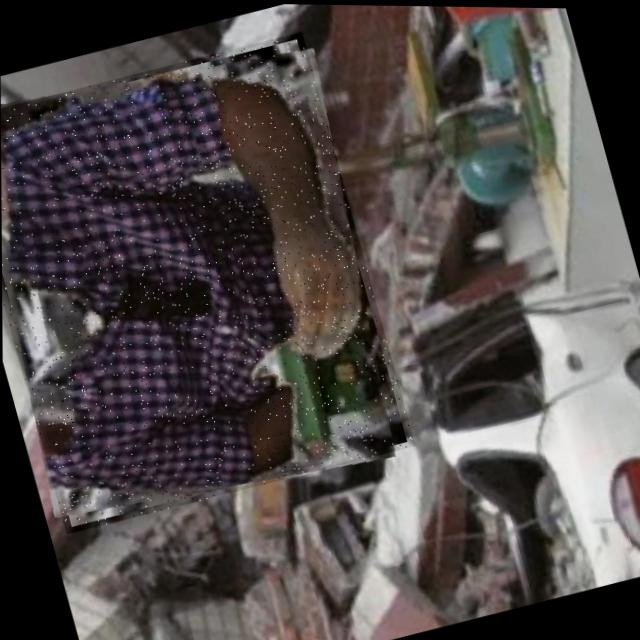Person in Rubble: (0, 26, 414, 537)
